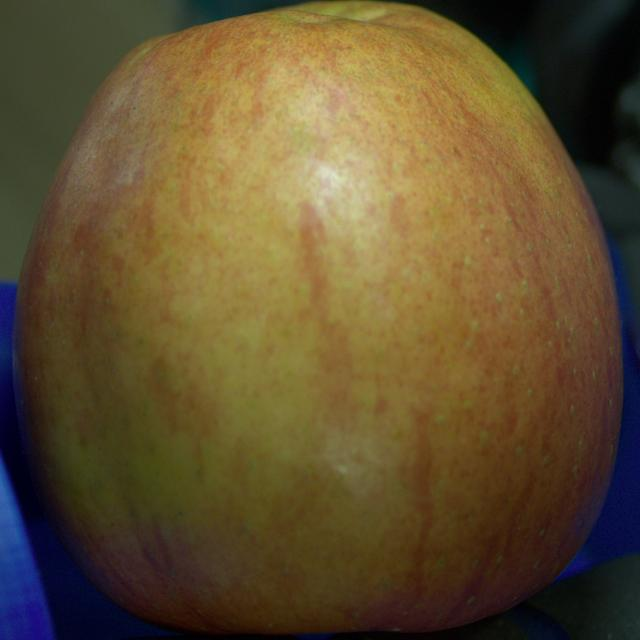apple: (13, 0, 622, 634)
